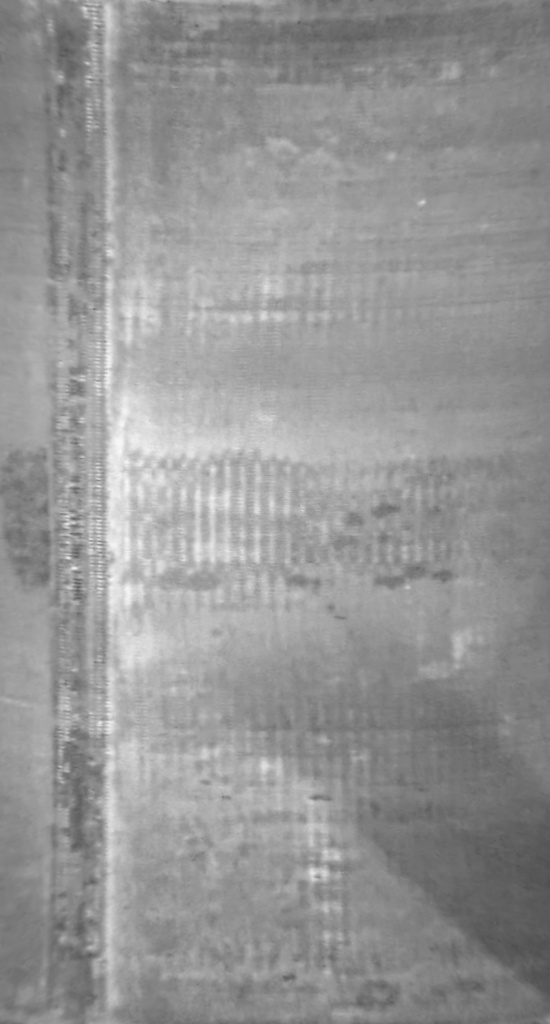splice: (27, 2, 130, 1024)
